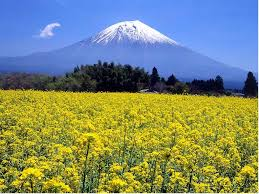flower: (5, 93, 259, 190)
mountain: (33, 21, 230, 91)
